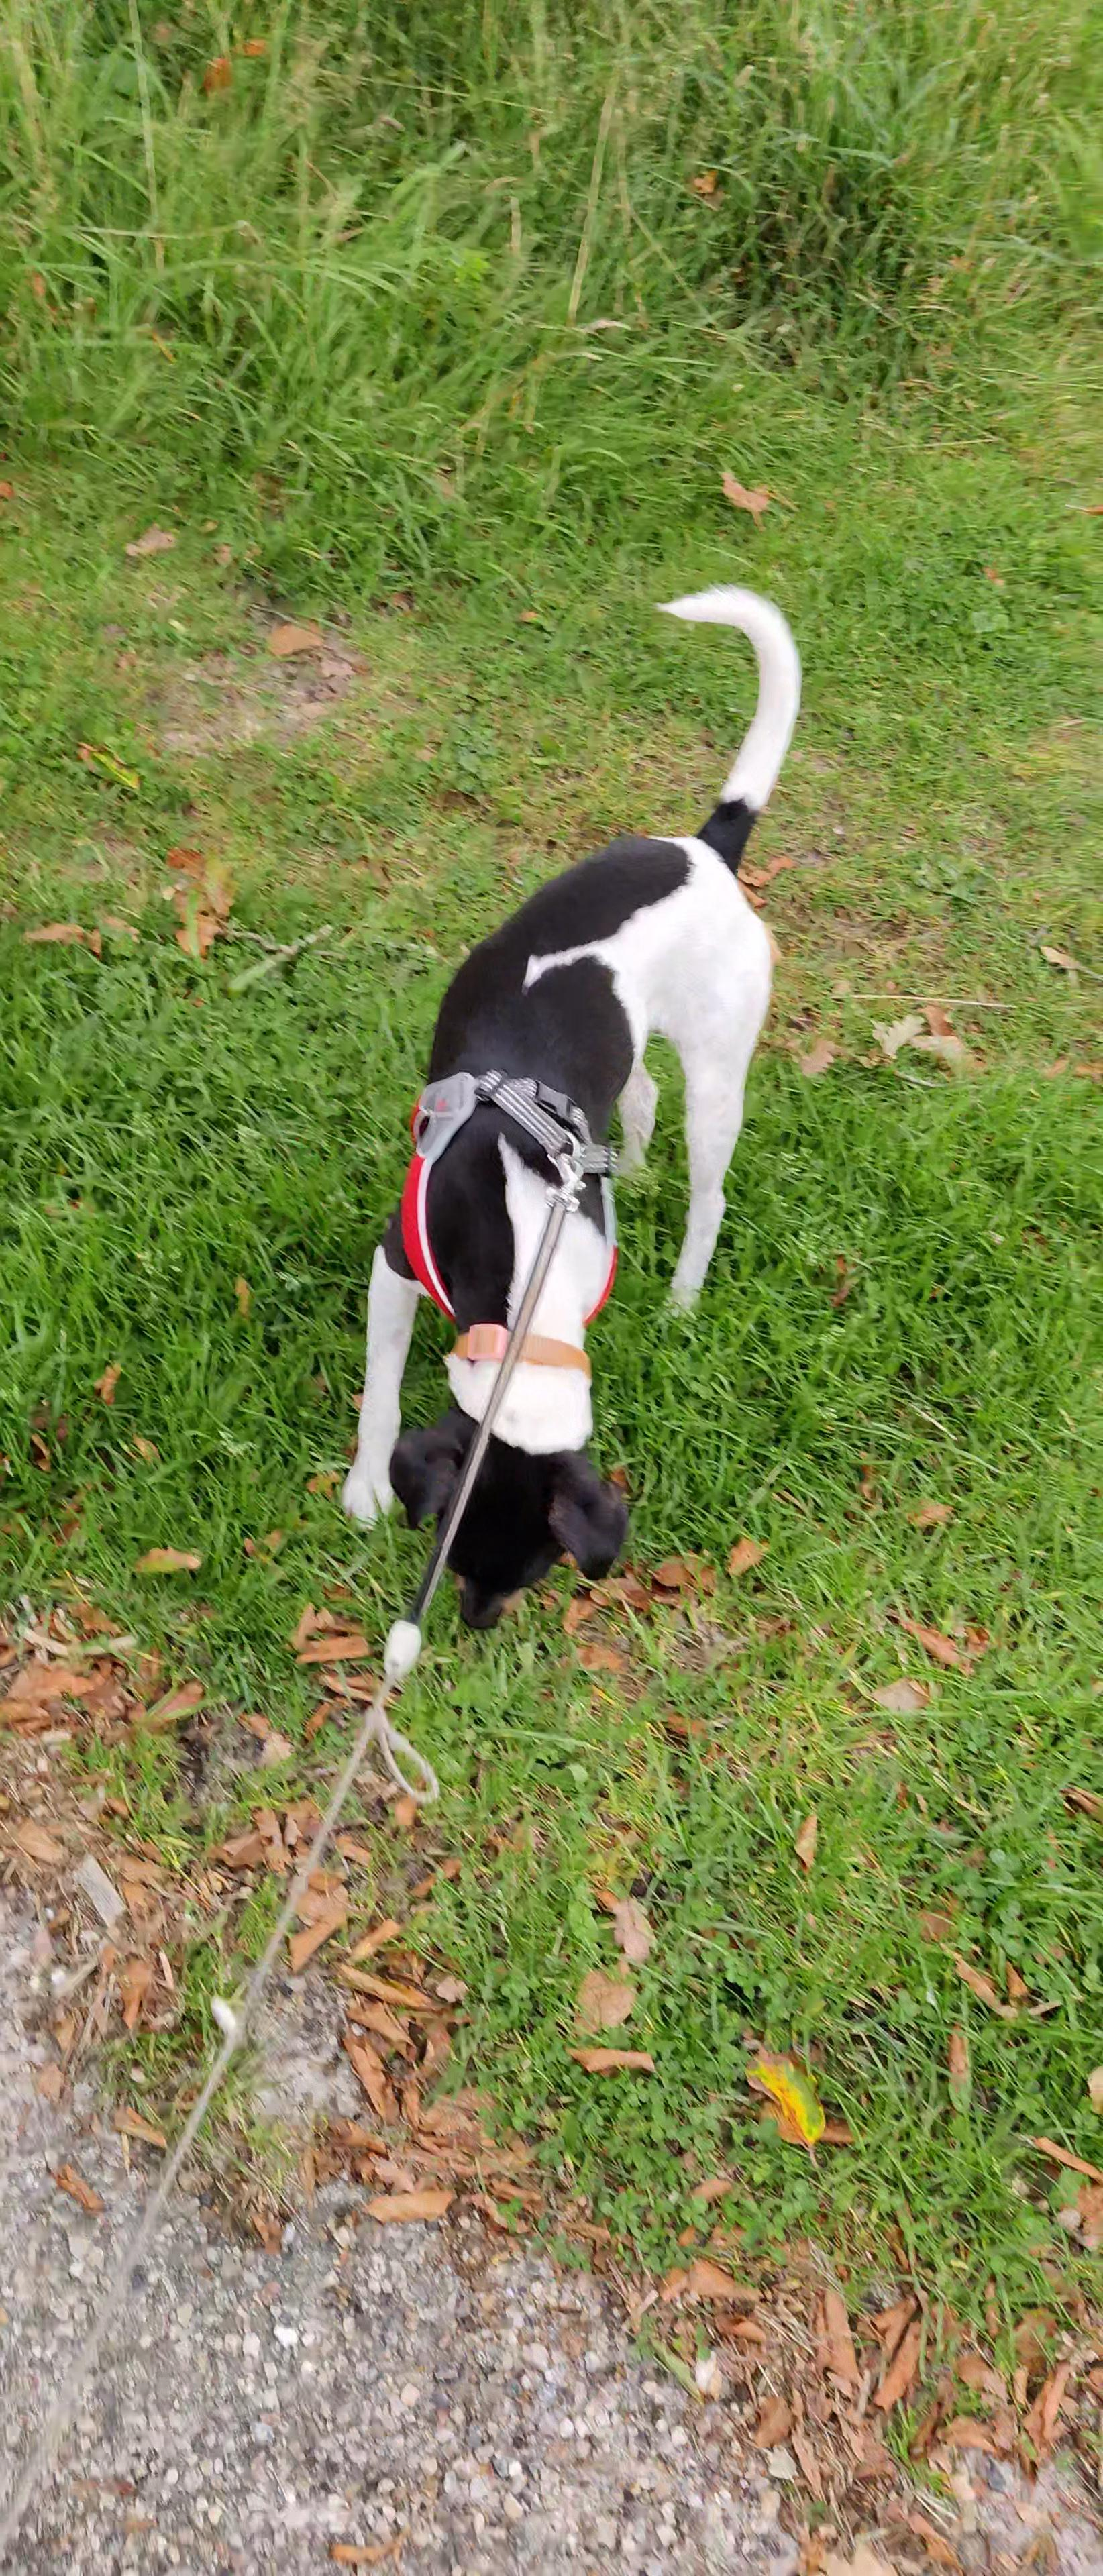Dog: (332, 578, 810, 1638)
